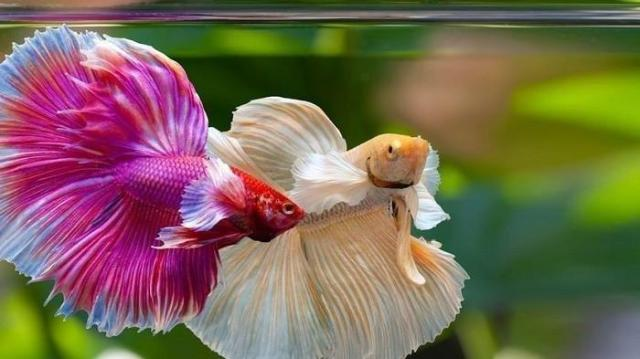Mulut: (388, 120, 436, 176), (284, 202, 320, 242)
Sirip Dada: (284, 147, 384, 237), (172, 158, 254, 232)
